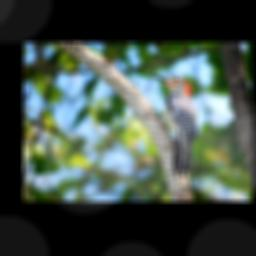Woodpecker: (144, 74, 197, 179)
